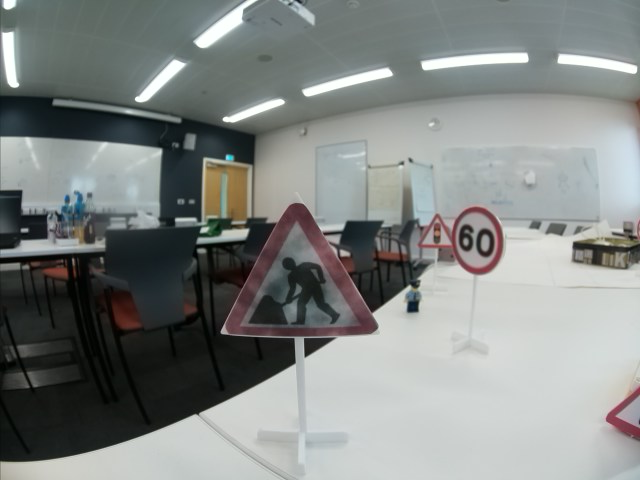60mph: (451, 207, 505, 272)
Lego Man: (403, 279, 425, 314)
Roadworks: (222, 203, 373, 337)
Traffic lights: (419, 211, 457, 249)
